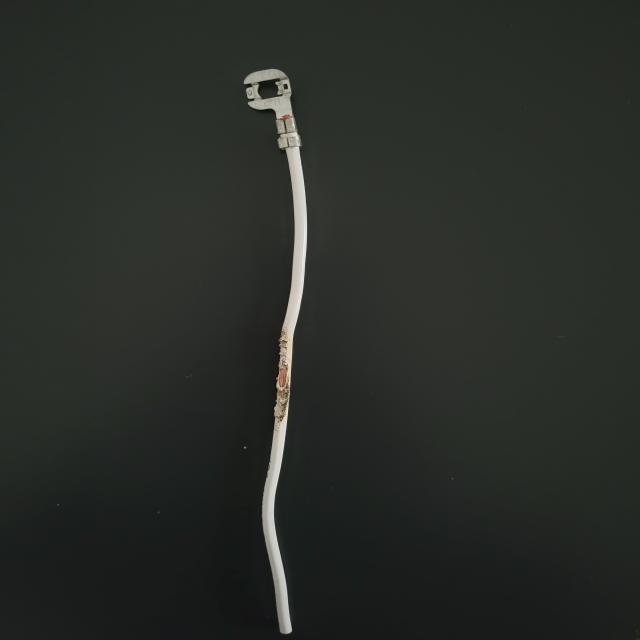defect: (246, 312, 340, 454)
